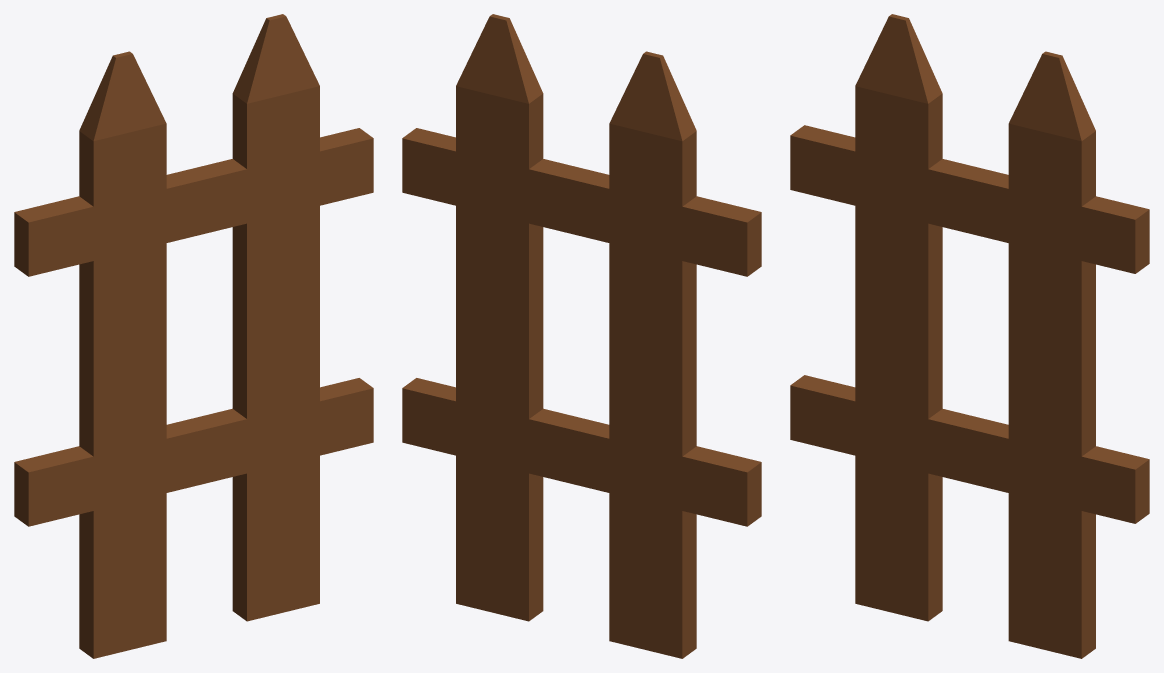
Rendered from Zabor 2.fbx.
3 renders of one model, left to right at view 1: azimuth 30°, elevation 25°; view 2: azimuth 150°, elevation 25°; view 3: azimuth 330°, elevation 25°, orthographic.
Visible parts, largest first — view 1: Cube.001; view 2: Cube.001; view 3: Cube.001.
Part boxes in pixels (x1=…): Cube.001: x1=14, y1=14, x2=373, y2=658; Cube.001: x1=402, y1=14, x2=761, y2=658; Cube.001: x1=790, y1=14, x2=1149, y2=658.
Bounding box in the file's own units: 2.89 × 0.2072 × 4.71.
